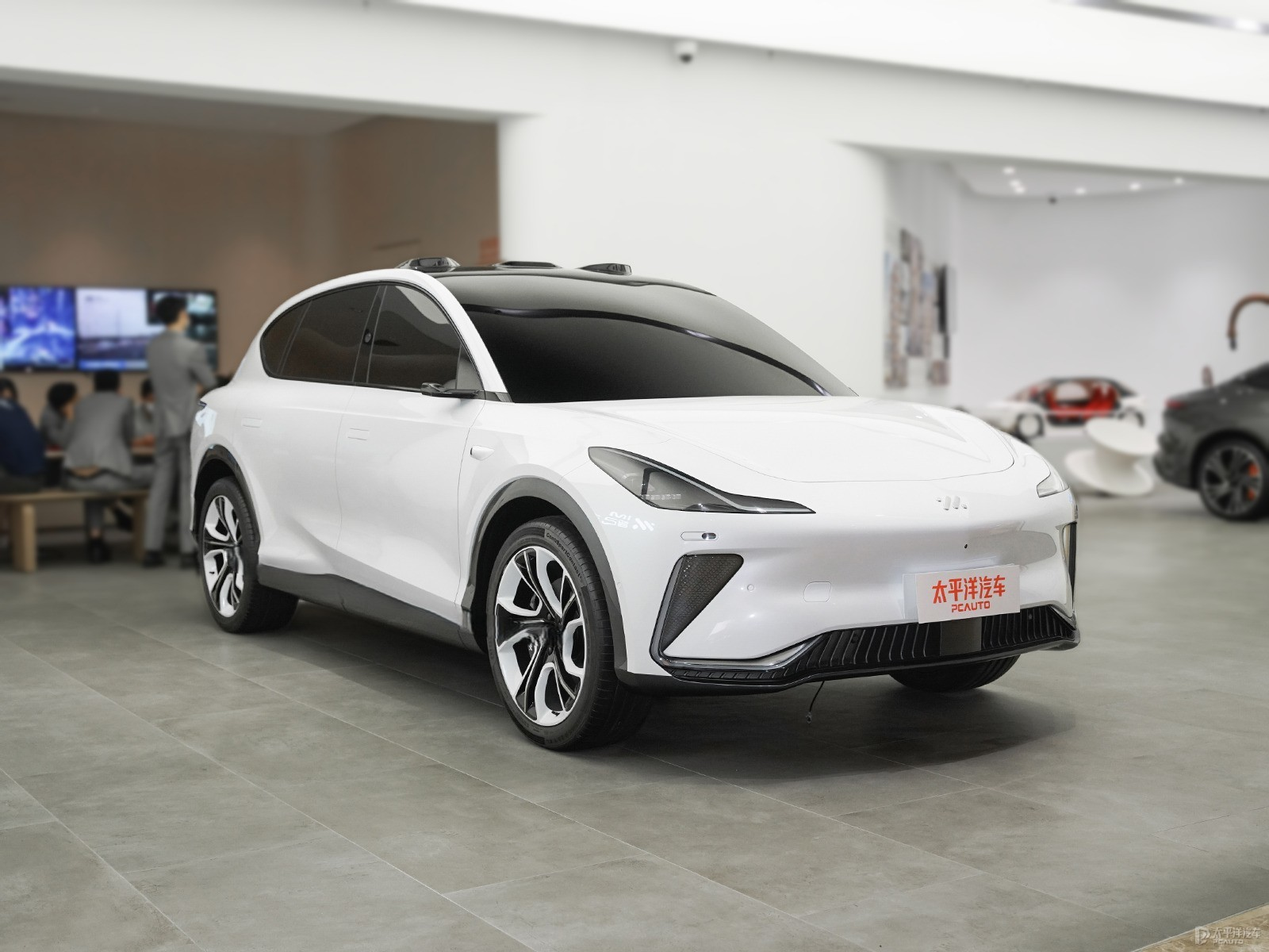IM: (937, 497, 967, 509)
